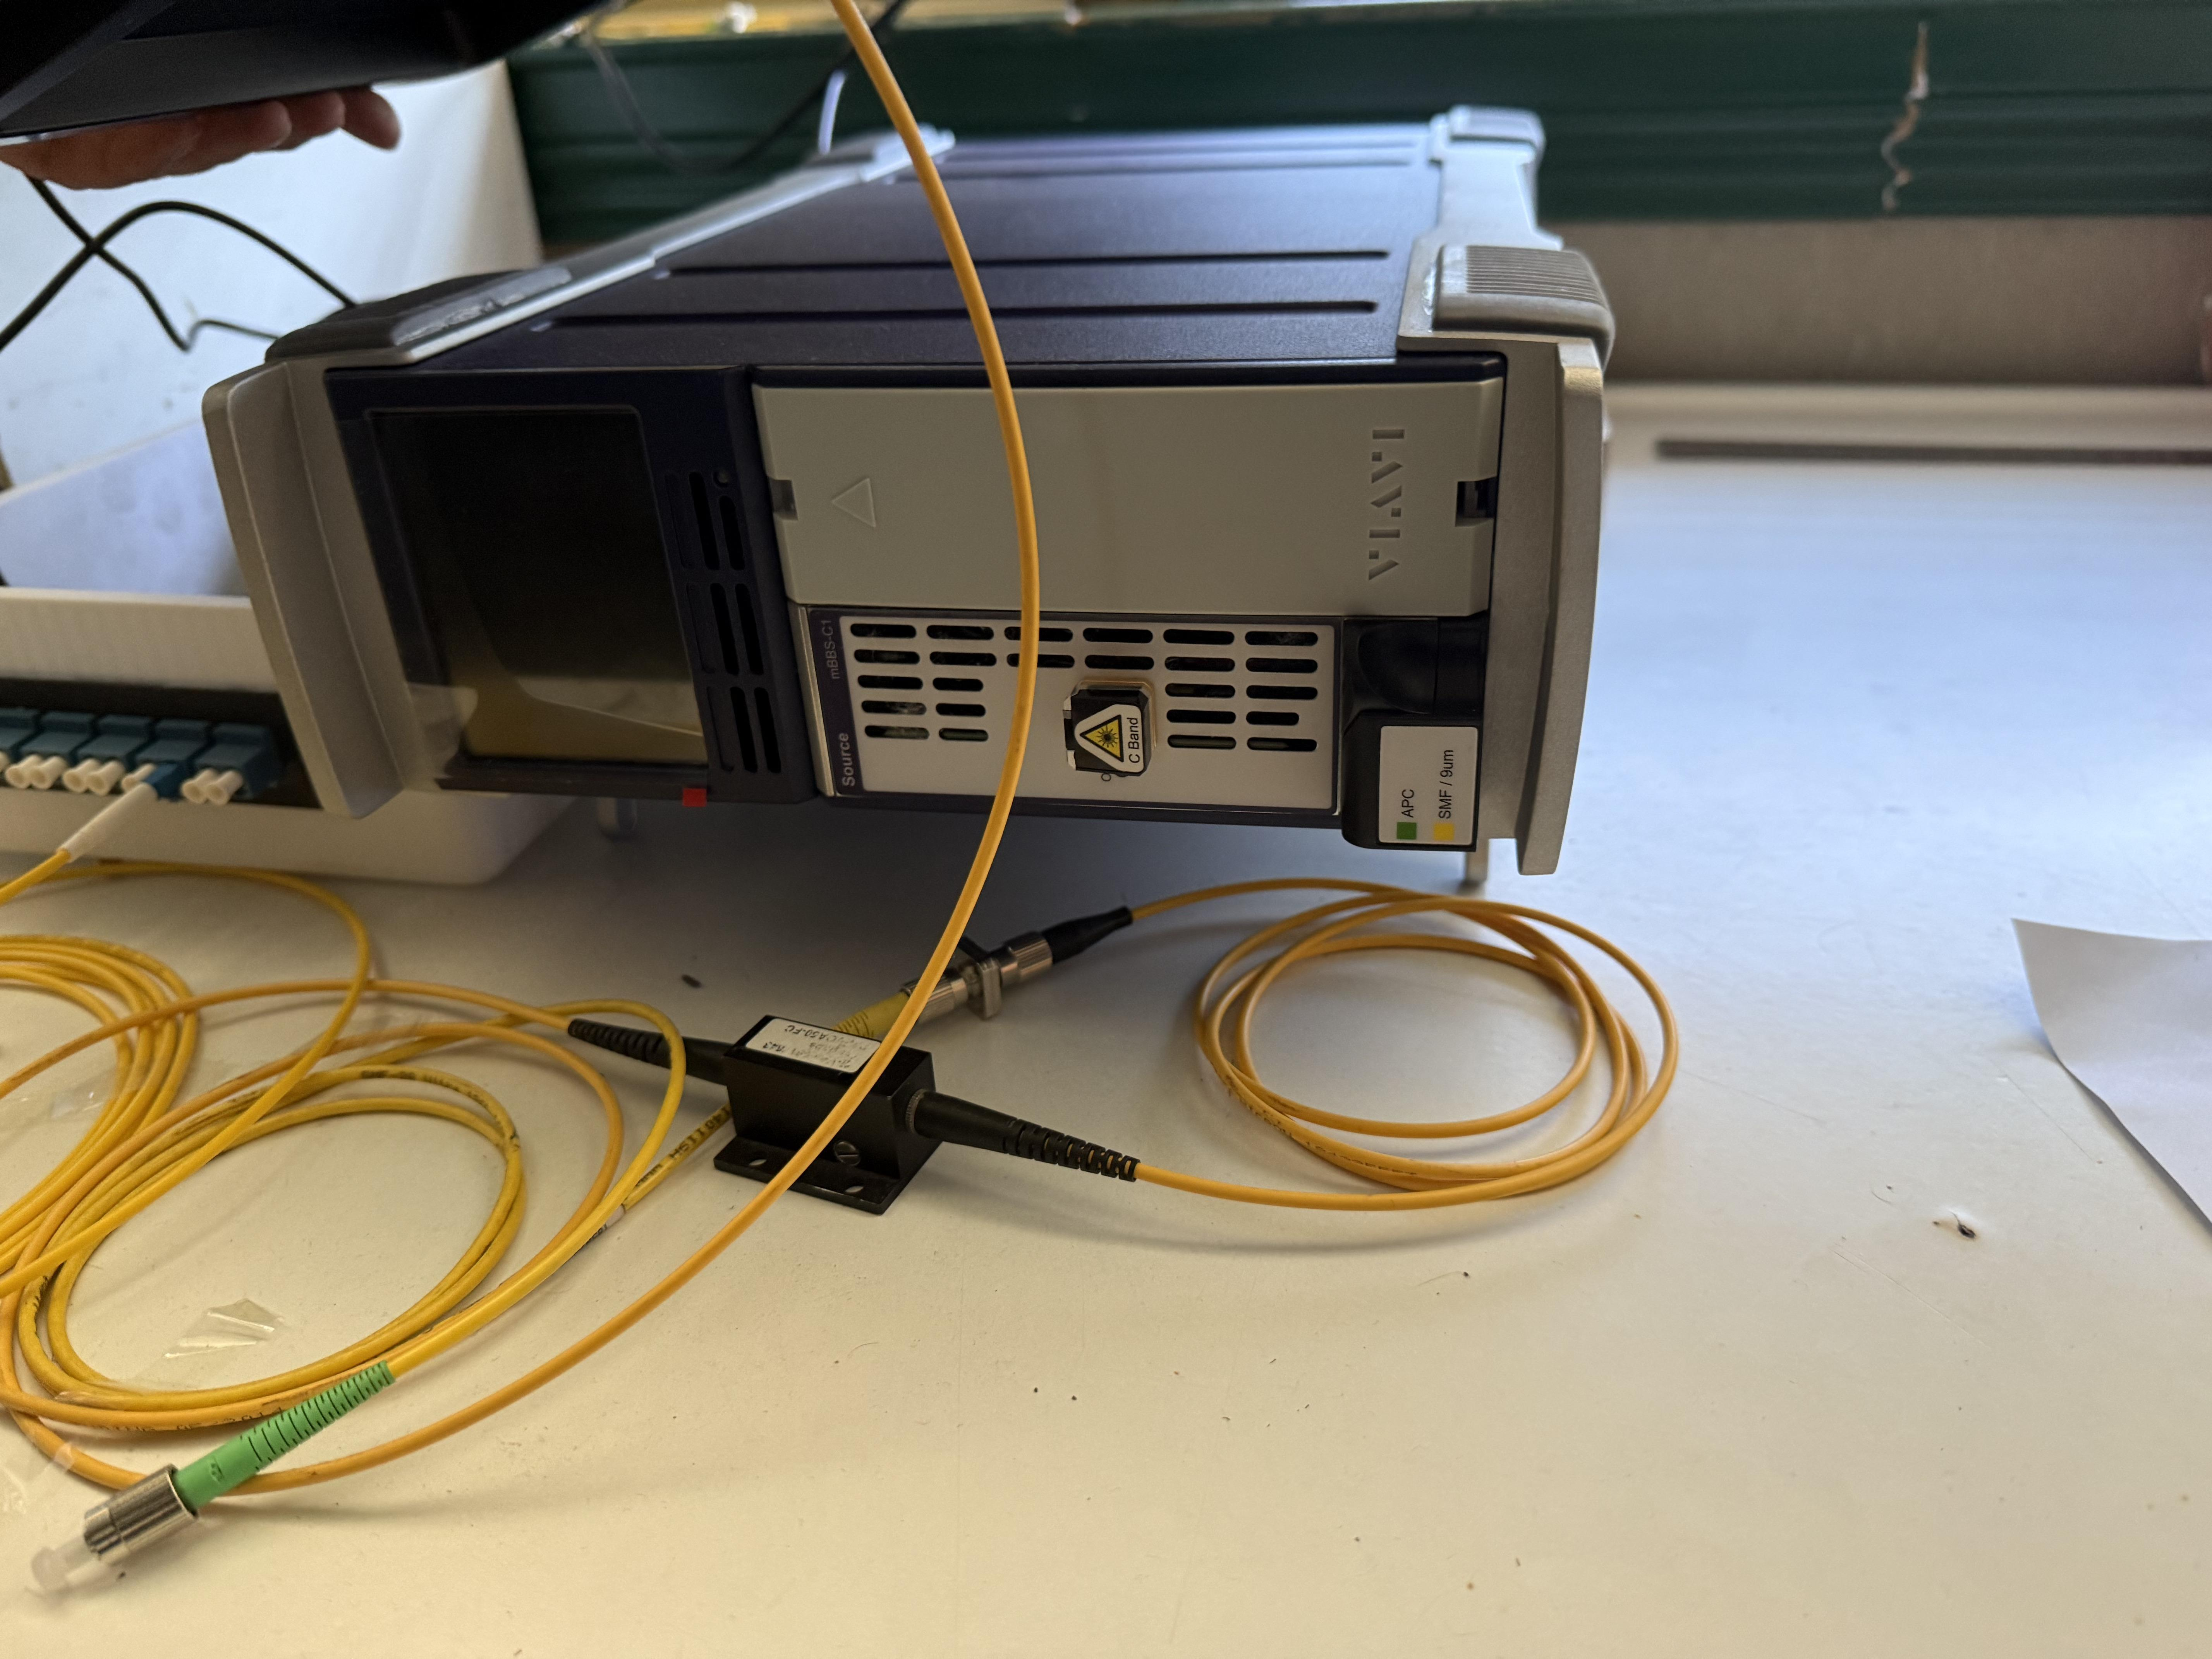fiber_cable: (3, 744, 1710, 1614)
laser: (174, 99, 1676, 924)
